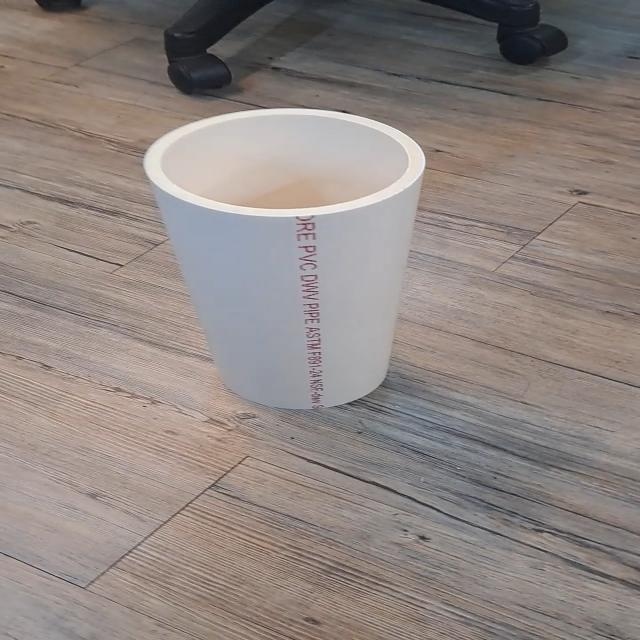CORAL: (131, 99, 447, 414)
